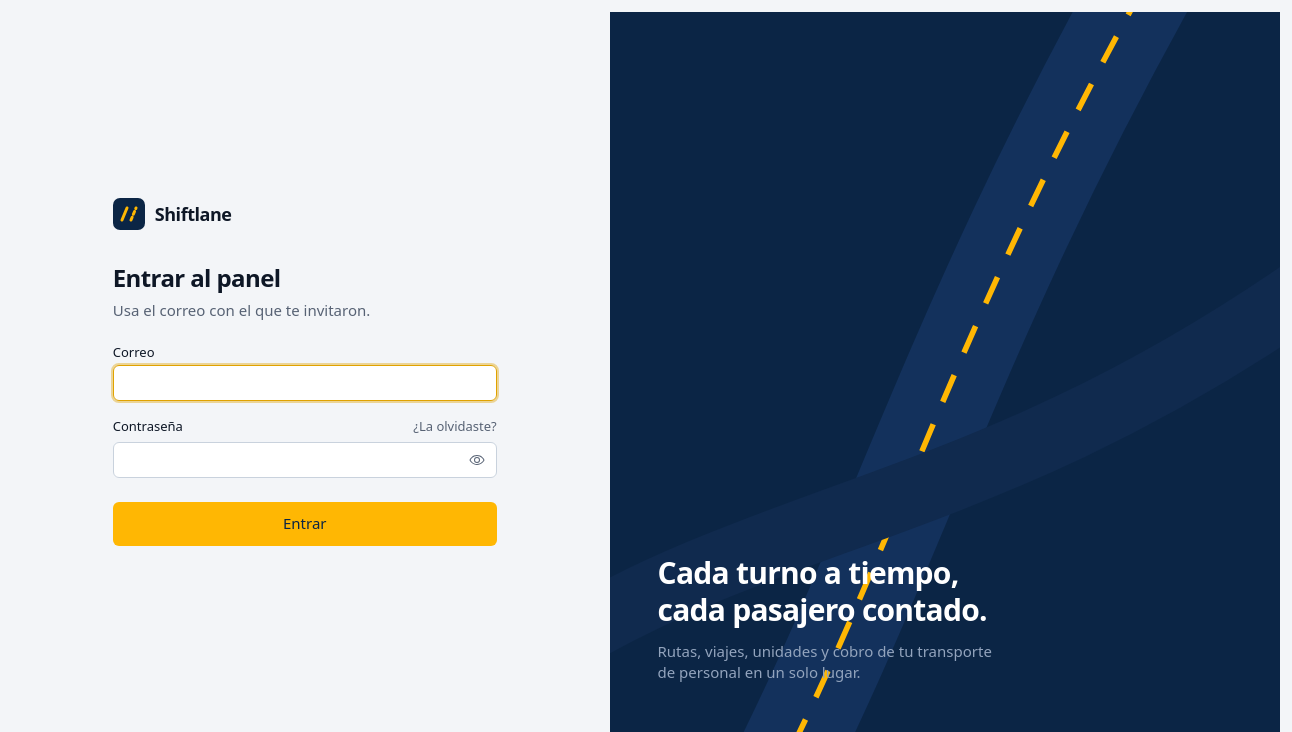
Test: acceso al panel › contraseña incorrecta: muestra el mensaje de la API
The width and height of the screenshot is (1292, 732).
Type "ana@transportes.mx" into the field labelled "Correo". click: (305,383)
box: [113,365,497,401]
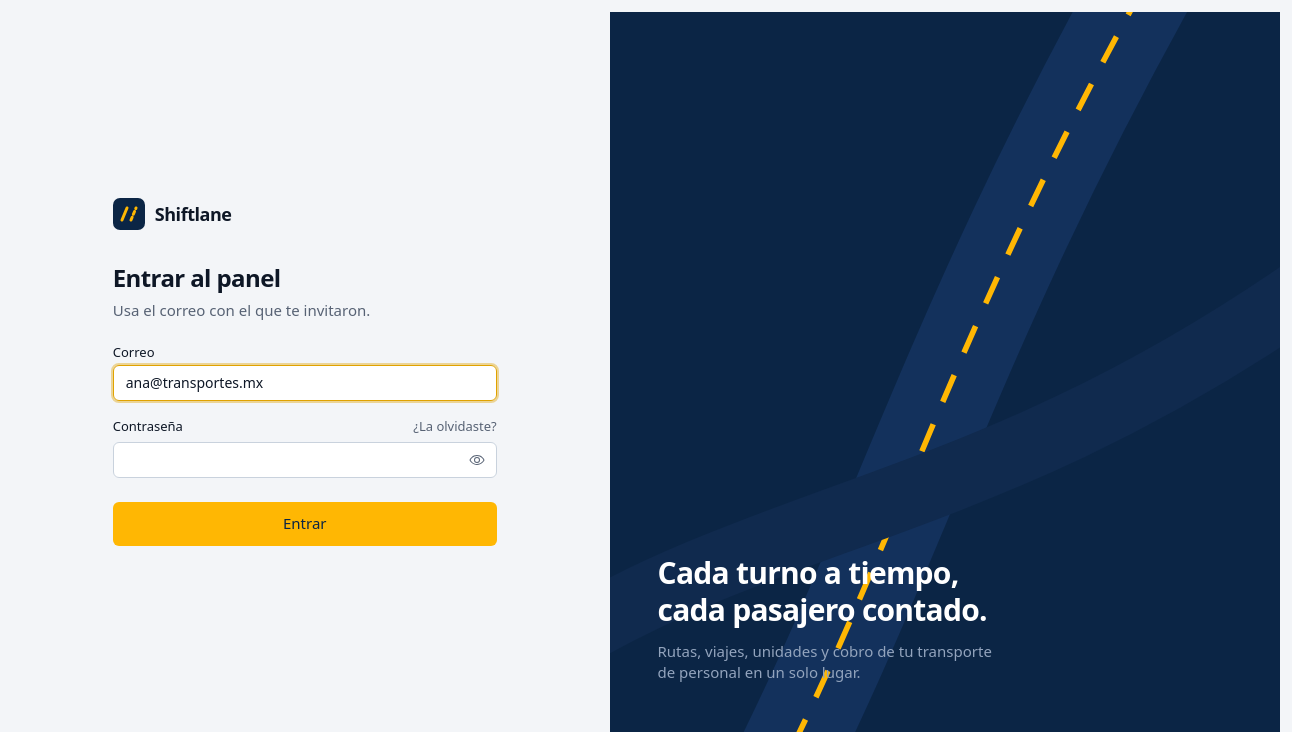
Type "mala" into the password field labelled "Contraseña". click: (305,460)
box: [113,442,497,478]
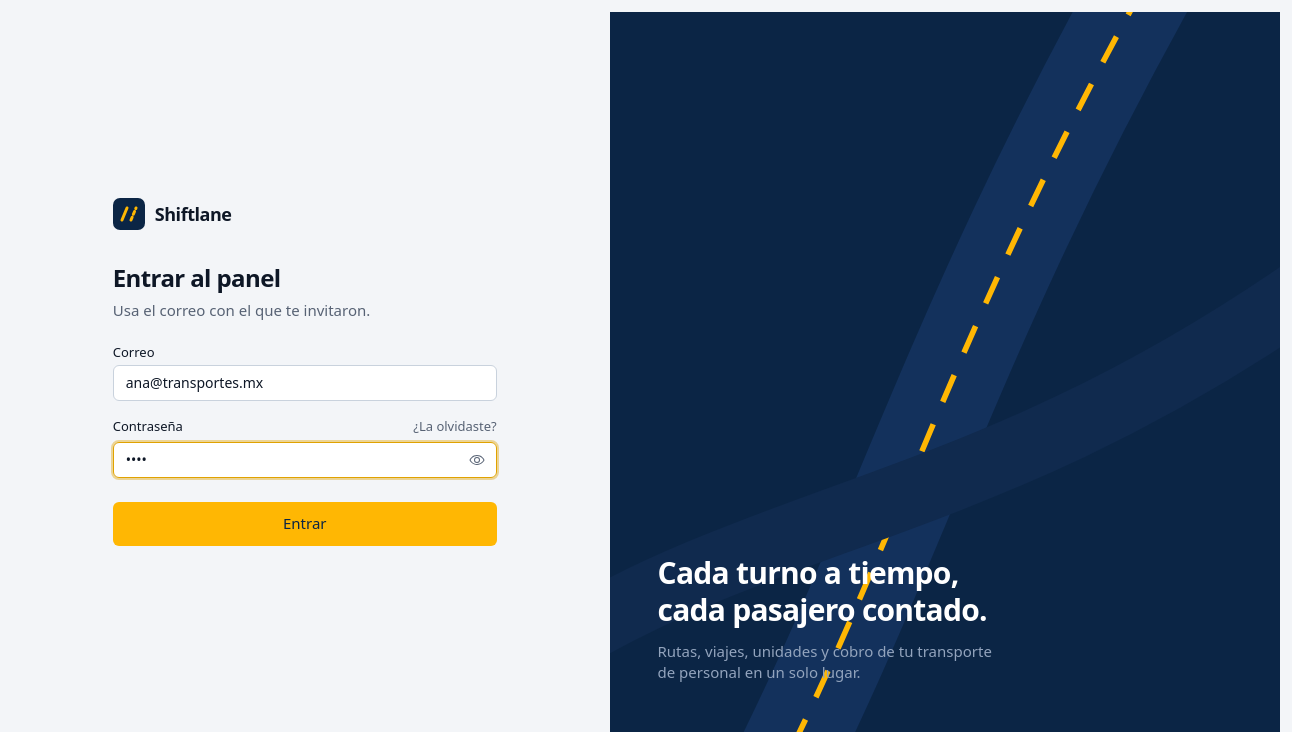
Click the button "Entrar". click: (305,524)
box: [113,502,497,546]
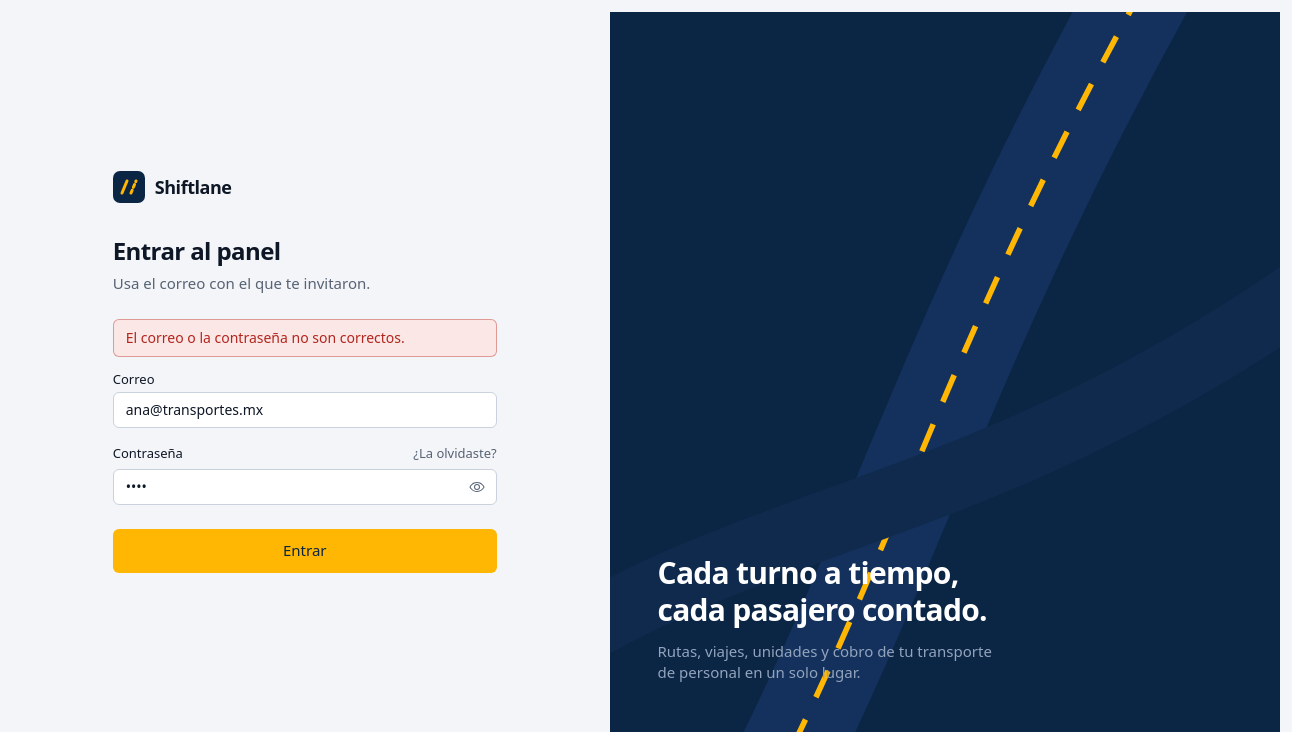
Check: the message reads "El correo o la contraseña no son correctos.", box [126,328,405,347]
